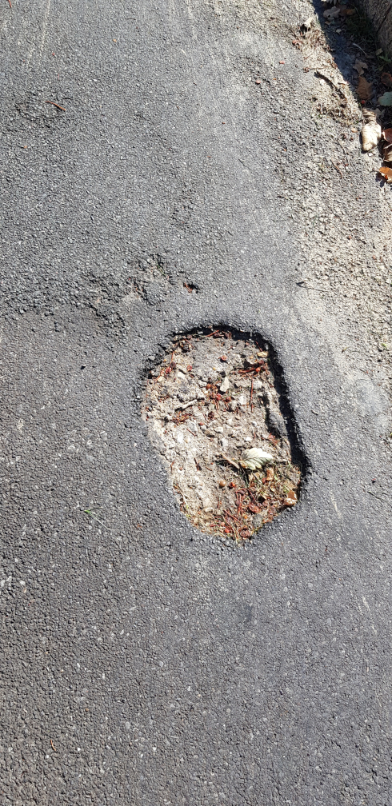pothole: (132, 316, 314, 549)
